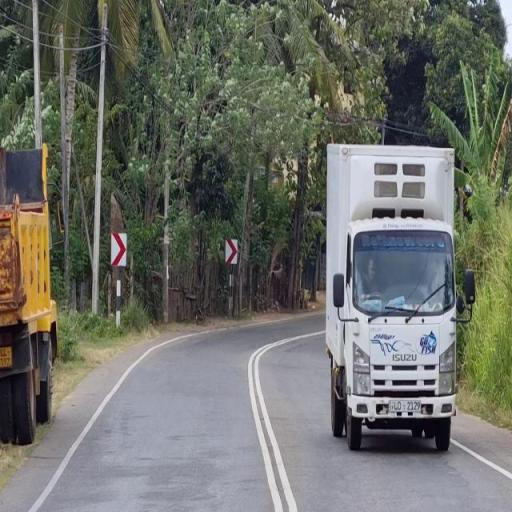double_white_line: (245, 335, 293, 511), (450, 438, 511, 478)
